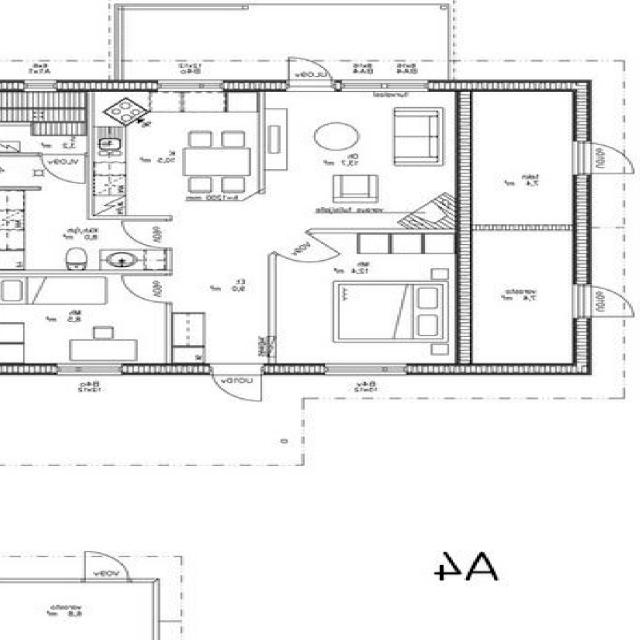door: (272, 232, 340, 275), (574, 287, 640, 318), (574, 144, 640, 174), (212, 365, 260, 405), (288, 54, 331, 92), (39, 152, 84, 184), (121, 221, 171, 249), (122, 276, 171, 303), (84, 553, 126, 584)
